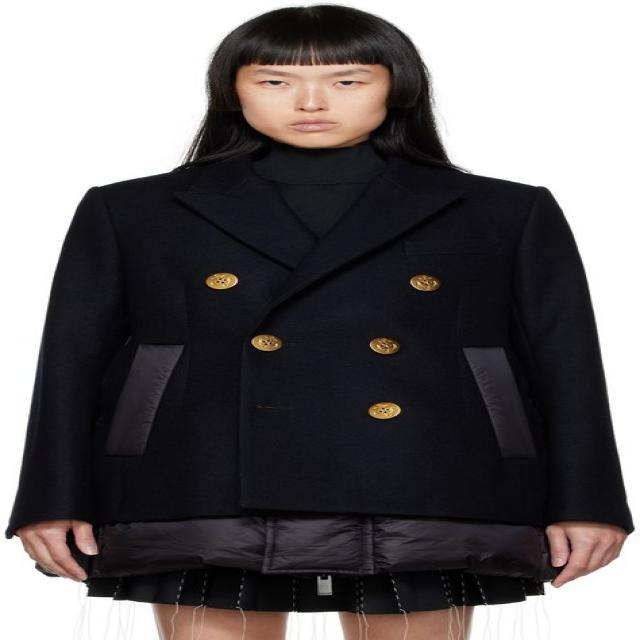coat: (2, 137, 639, 611)
sweater: (243, 130, 394, 245)
